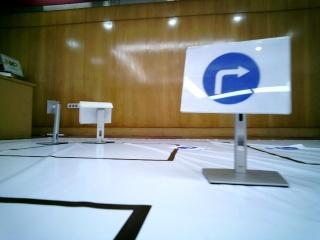right: (193, 45, 283, 113)
